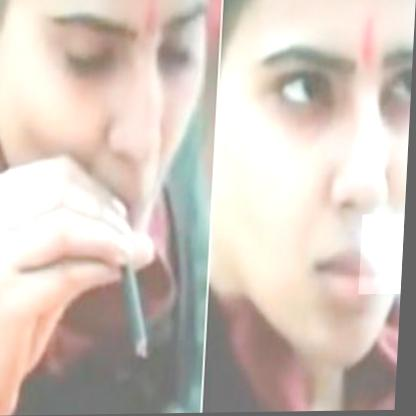smoke: (362, 215, 407, 296)
